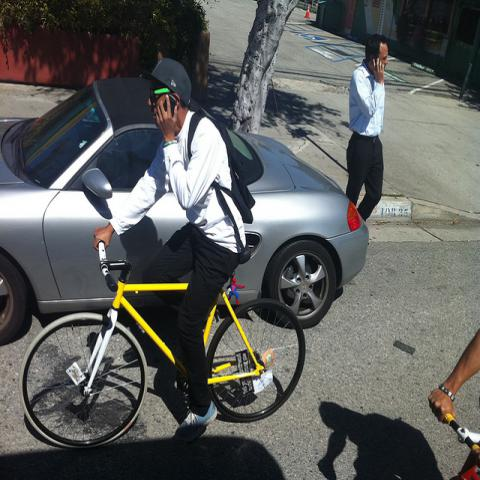car: (0, 77, 370, 342)
